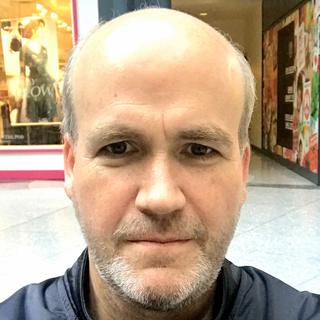eye: (171, 138, 225, 167), (92, 136, 143, 160)
